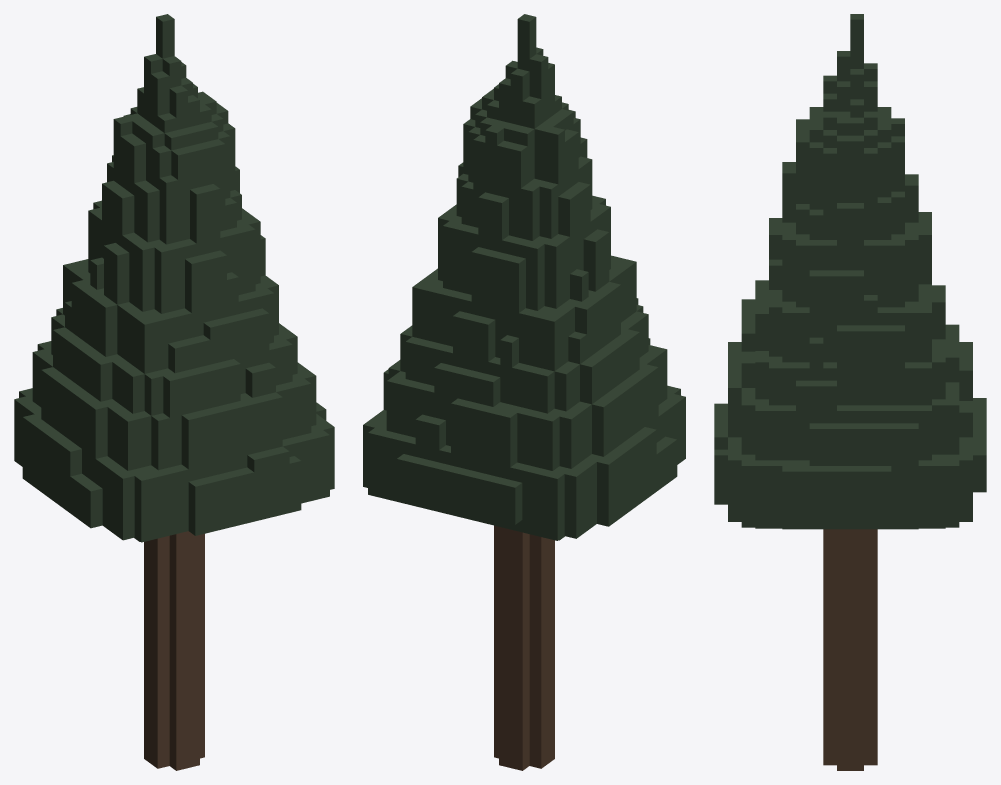
Rendered from Tree3.obj.
3 views of the same model, side by side, from view 1: azimuth 30°, elevation 25°; view 2: azimuth 150°, elevation 25°; view 3: azimuth 270°, elevation 25° (orthographic).
Bounding box in the file's own units: 2 × 6 × 2.
Materials: 1 (1 with a texture image).
